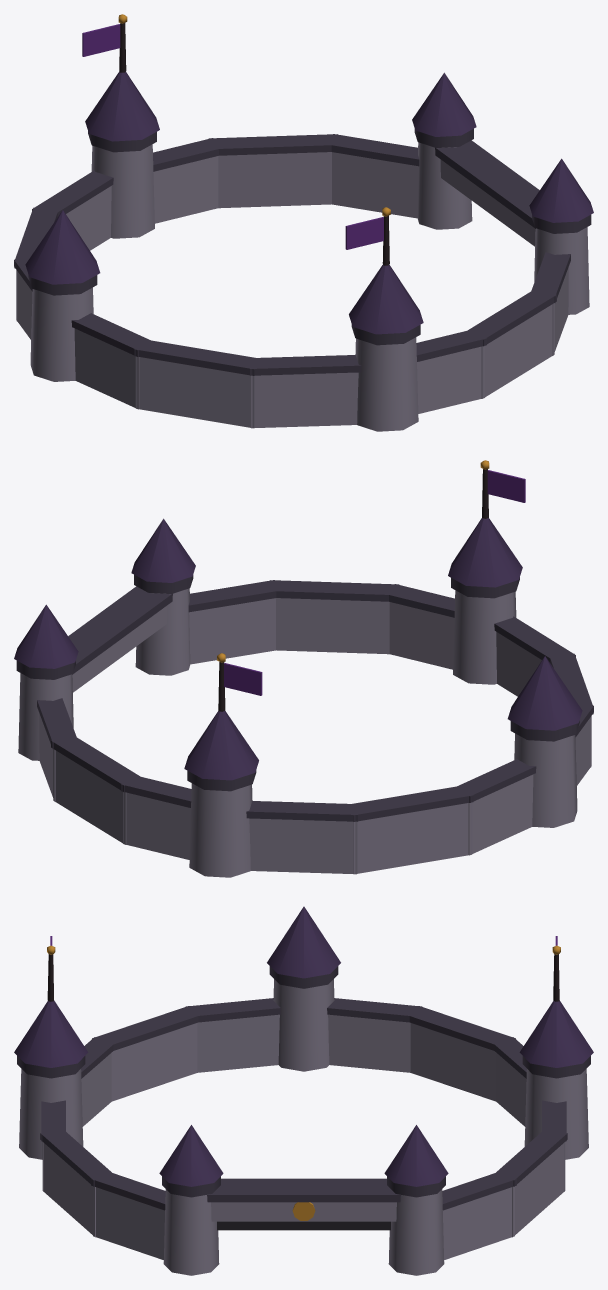
Rendered from base_merchant_walls_2.glb.
3 views of the same model, one above another, from view 1: azimuth 30°, elevation 25°; view 2: azimuth 150°, elevation 25°; view 3: azimuth 270°, elevation 25° (orthographic). The views are drawn at different scales.
Visible parts, largest first — view 1: wall_7, wall_1, wall_8, tower_260_body, wall_0, tower_180_body, tower_100_body, wall_10, wall_9, gate_arch_cap, wall_2, wall_6 (+29 smaller); view 2: wall_4, wall_10, wall_3, tower_100_body, wall_11, tower_180_body, tower_260_body, wall_1, wall_2, gate_arch_cap, wall_9, wall_5 (+29 smaller); view 3: gate_arch_cap, tower_180_body, wall_4, wall_7, wall_5, wall_6, gate_tower_n_body, gate_tower_s_body, wall_0, wall_11, tower_100_body, tower_260_body (+28 smaller).
Part boxes in pixels (x1,y1,x2,y2): wall_7: [135, 356, 254, 428]; wall_1: [218, 152, 331, 208]; wall_8: [250, 372, 358, 428]; tower_260_body: [355, 337, 418, 431]; wall_0: [332, 152, 418, 218]; tower_180_body: [30, 287, 93, 381]; tower_100_body: [91, 144, 154, 238]; wall_10: [481, 303, 554, 398]; wall_9: [417, 346, 484, 413]; gate_arch_cap: [435, 140, 539, 228]; wall_2: [153, 156, 218, 223]; wall_6: [74, 328, 139, 409]; wall_4: [353, 802, 472, 874]; wall_10: [276, 598, 389, 654]; wall_3: [249, 818, 357, 874]; tower_100_body: [189, 783, 252, 877]; wall_11: [189, 598, 275, 664]; tower_180_body: [514, 733, 577, 827]; tower_260_body: [453, 590, 516, 684]; wall_1: [53, 749, 126, 844]; wall_2: [123, 792, 190, 859]; gate_arch_cap: [68, 586, 172, 674]; wall_9: [389, 602, 454, 669]; wall_5: [468, 774, 533, 855]; gate_arch_cap: [207, 1178, 400, 1202]; tower_180_body: [273, 979, 334, 1071]; wall_4: [410, 1023, 496, 1101]; wall_7: [111, 1023, 197, 1101]; wall_5: [328, 1014, 410, 1072]; wall_6: [197, 1014, 279, 1072]; gate_tower_n_body: [388, 1189, 444, 1275]; gate_tower_s_body: [163, 1189, 219, 1275]; wall_0: [443, 1186, 514, 1260]; wall_11: [93, 1186, 164, 1260]; tower_100_body: [524, 1069, 588, 1159]; tower_260_body: [19, 1069, 83, 1159].
Size of the model in its own units: 1.08 by 0.4348 by 1.13.
